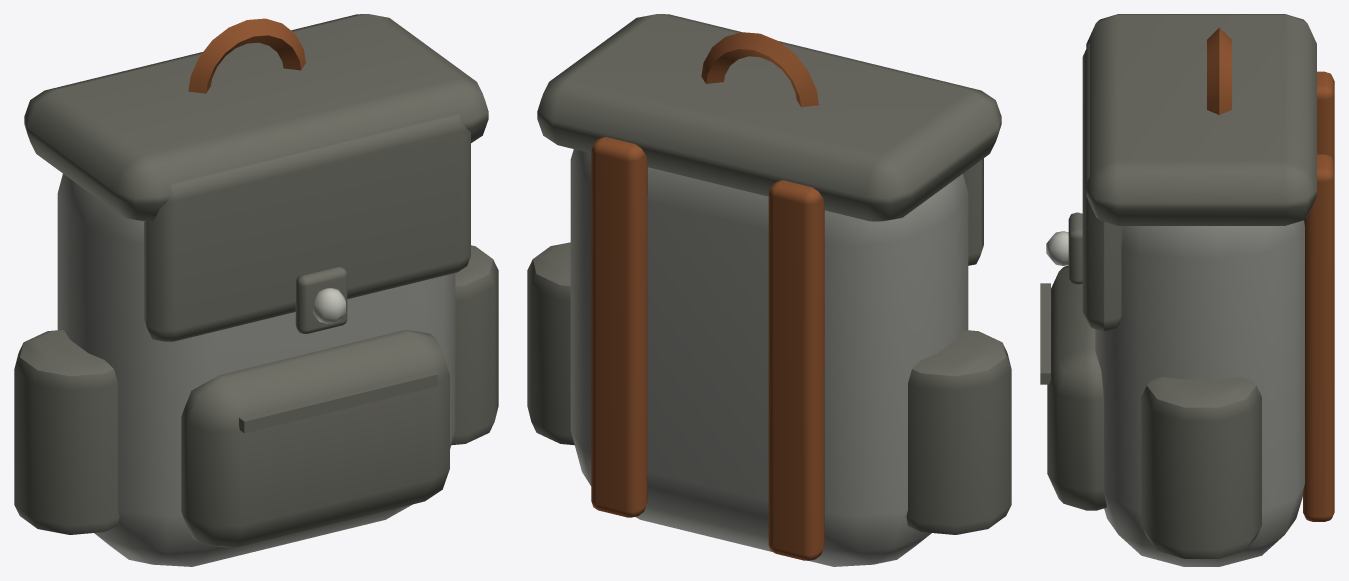
Rendered from StoneBackpack.fbx.
The picture shows the model from 3 angles, left to right: view 1: azimuth 30°, elevation 25°; view 2: azimuth 150°, elevation 25°; view 3: azimuth 270°, elevation 25°; orthographic projection. The views are drawn at different scales.
Visible parts, largest first — view 1: StoneBackpack; view 2: StoneBackpack; view 3: StoneBackpack.
Part boxes in pixels (x1,y1,x2,y2): StoneBackpack: [14, 14, 498, 566]; StoneBackpack: [527, 14, 1011, 566]; StoneBackpack: [1040, 14, 1334, 566].
Size of the model in its own units: 2.89 by 2.99 by 1.66.
1 material, 1 textured.
